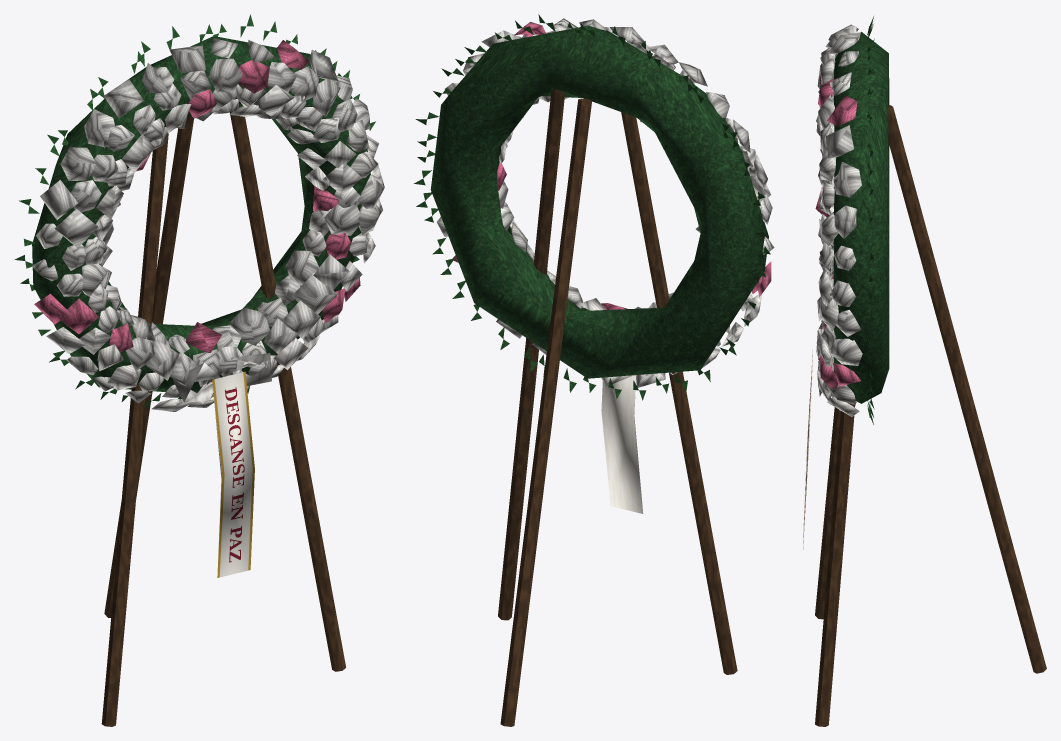
Rendered from corona_blanca_lod.obj.
The picture shows the model from 3 angles, left to right: view 1: azimuth 30°, elevation 25°; view 2: azimuth 150°, elevation 25°; view 3: azimuth 270°, elevation 25°; orthographic projection. The views are drawn at different scales.
Visible parts, largest first — view 1: Flores_Petalo_Blanco, Base, Cylinder, Cylinder.001, Liston, Flores_Petalo_Rosa, Cylinder.002, Flores_Hoja_Verde_Oscuro, Mono; view 2: Base, Cylinder.002, Cylinder, Flores_Petalo_Blanco, Cylinder.001, Liston, Flores_Hoja_Verde_Oscuro, Flores_Petalo_Rosa; view 3: Base, Flores_Petalo_Blanco, Cylinder.002, Cylinder.001, Cylinder, Flores_Petalo_Rosa, Flores_Hoja_Verde_Oscuro.
Boxes of the visible parts, x1,y1,x2,y2 form: Flores_Petalo_Blanco: [32, 38, 384, 411]; Base: [32, 36, 370, 392]; Cylinder: [101, 133, 168, 726]; Cylinder.001: [230, 112, 345, 671]; Liston: [212, 371, 254, 577]; Flores_Petalo_Rosa: [34, 40, 360, 352]; Cylinder.002: [104, 116, 193, 617]; Flores_Hoja_Verde_Oscuro: [14, 14, 375, 408]; Mono: [173, 353, 271, 402]; Base: [430, 25, 768, 378]; Cylinder.002: [500, 98, 591, 726]; Cylinder: [621, 112, 737, 674]; Flores_Petalo_Blanco: [431, 18, 774, 387]; Cylinder.001: [498, 89, 564, 620]; Liston: [601, 375, 643, 513]; Flores_Hoja_Verde_Oscuro: [414, 14, 770, 400]; Flores_Petalo_Rosa: [453, 22, 771, 309]; Base: [833, 32, 889, 403]; Flores_Petalo_Blanco: [816, 24, 862, 416]; Cylinder.002: [888, 105, 1046, 673]; Cylinder.001: [815, 403, 855, 726]; Cylinder: [815, 407, 840, 619]; Flores_Petalo_Rosa: [815, 75, 860, 389]; Flores_Hoja_Verde_Oscuro: [867, 16, 874, 424].
Size of the model in its own units: 0.8231 by 1.42 by 0.4916.
Materials: 7 (7 with a texture image).
